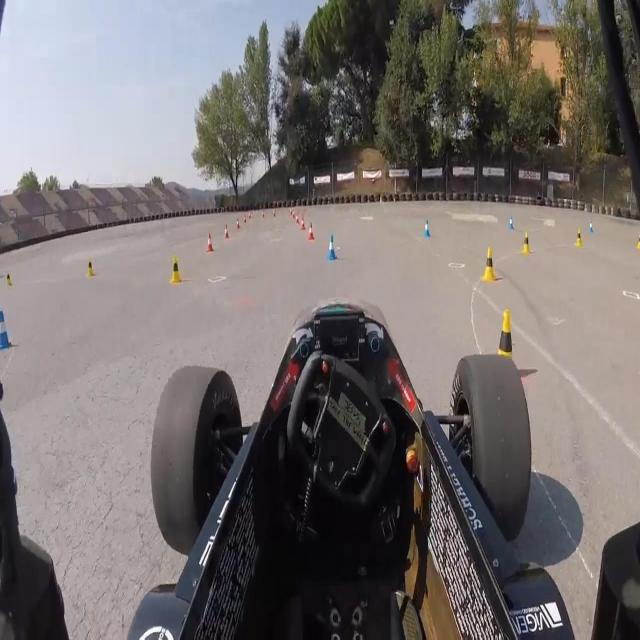blue_cone: (326, 235, 337, 259), (424, 218, 431, 238)
orange_cone: (206, 233, 215, 253), (308, 221, 316, 240)
yellow_cone: (490, 308, 518, 392), (171, 255, 182, 285), (523, 231, 531, 254), (576, 228, 583, 248), (88, 257, 94, 276)
